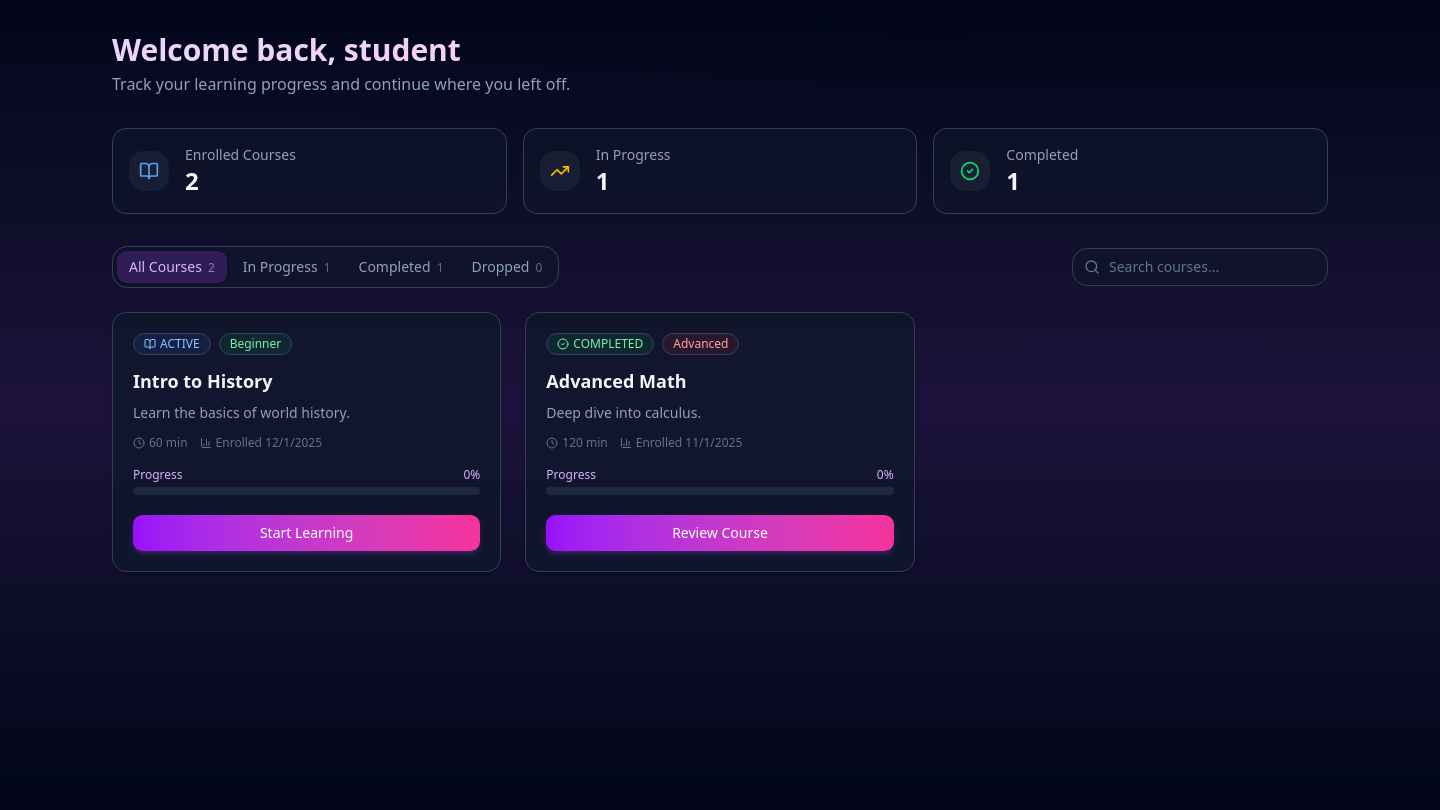
it: Learner Dashboard (F3.1) › filters courses by tab click
Expected: the heading "Intro to History" is shown, [133,369,272,393]
// The filter tab is the one with a count next to it
Click the button "Completed1".
click(401, 267)  # box [346,251,456,283]
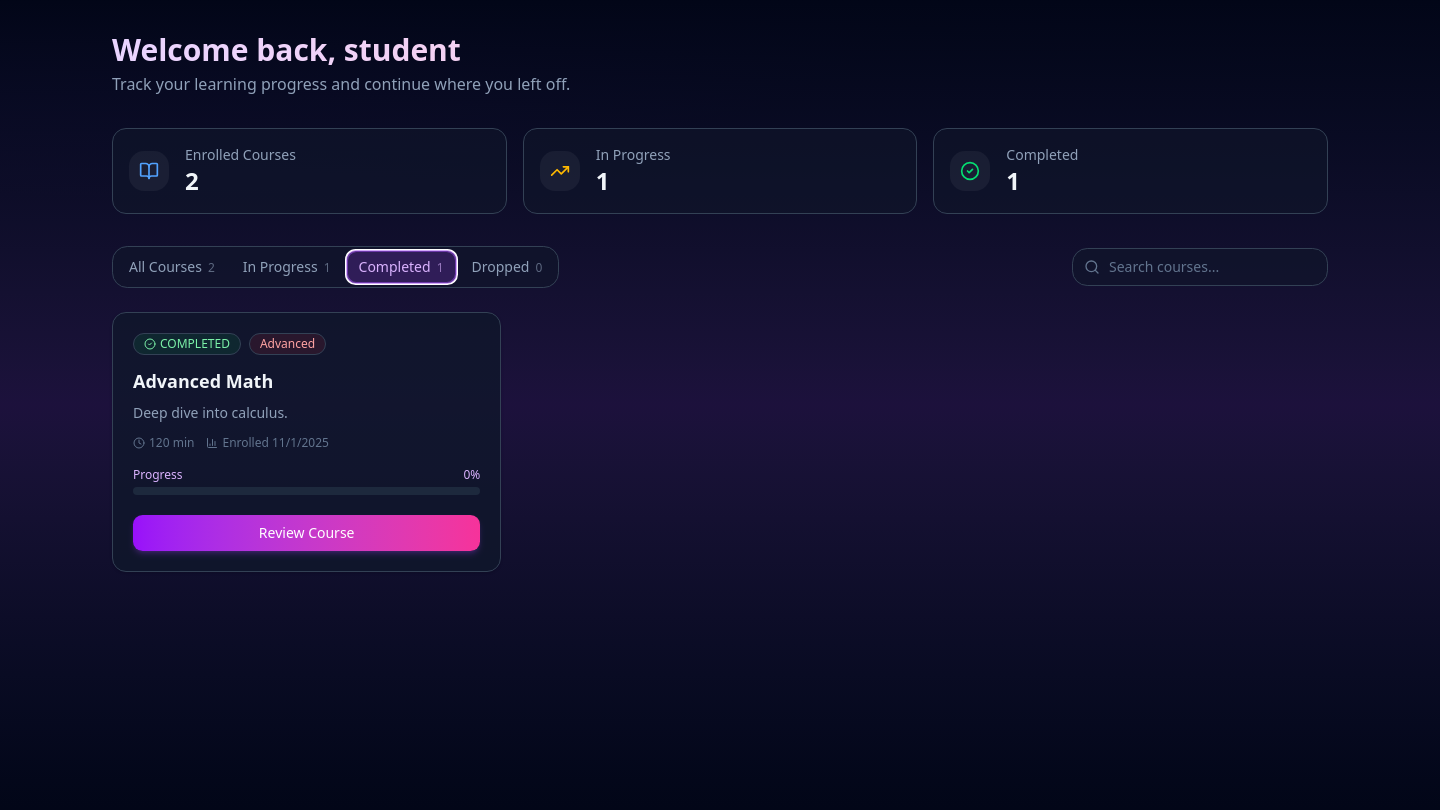
Expected: the heading "Advanced Math" is shown, [133,369,273,393]
Expected: the heading "Intro to History" is gone
